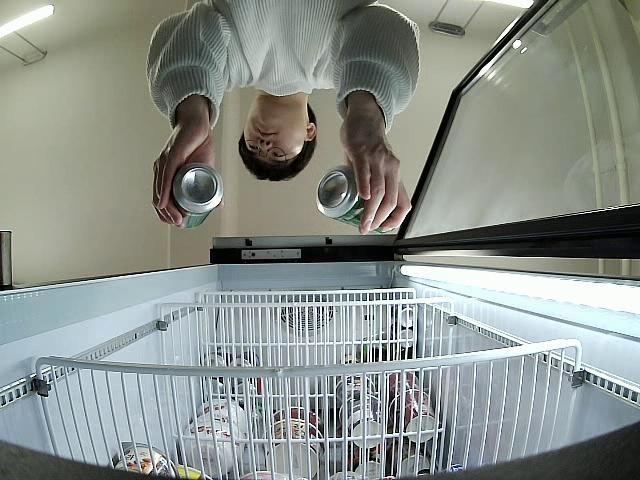12_chilsungCider: (316, 162, 396, 234), (170, 162, 223, 233)
